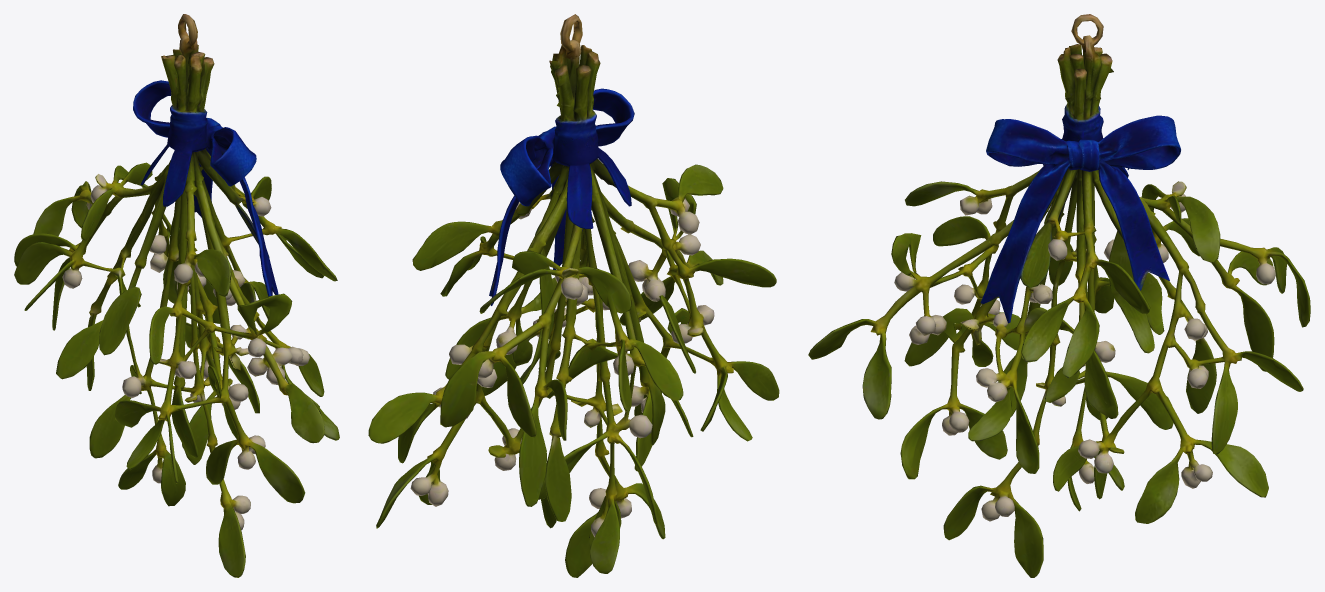
The model's file is lt_mistletoe.glb.
The picture shows the model from 3 angles, left to right: view 1: azimuth 30°, elevation 25°; view 2: azimuth 150°, elevation 25°; view 3: azimuth 270°, elevation 25°; orthographic projection. The views are drawn at different scales.
Visible parts, largest first — view 1: tripo_node_99da4001-376a-4ea1-a41d-f6d25d4d996e; view 2: tripo_node_99da4001-376a-4ea1-a41d-f6d25d4d996e; view 3: tripo_node_99da4001-376a-4ea1-a41d-f6d25d4d996e.
Boxes of the visible parts, left/top/right/bottom form: tripo_node_99da4001-376a-4ea1-a41d-f6d25d4d996e: left=14, top=14, right=339, bottom=577; tripo_node_99da4001-376a-4ea1-a41d-f6d25d4d996e: left=368, top=14, right=779, bottom=577; tripo_node_99da4001-376a-4ea1-a41d-f6d25d4d996e: left=808, top=14, right=1310, bottom=577.
Bounding box in the file's own units: 0.5093 × 1 × 0.8255.
1 material, 1 textured.
